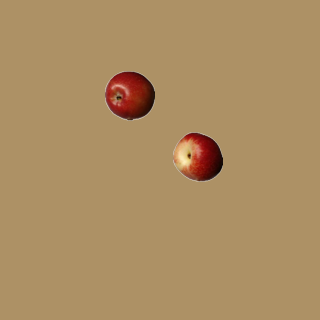Apple Braeburn: (104, 70, 154, 120)
Nectarine: (172, 131, 222, 181)
